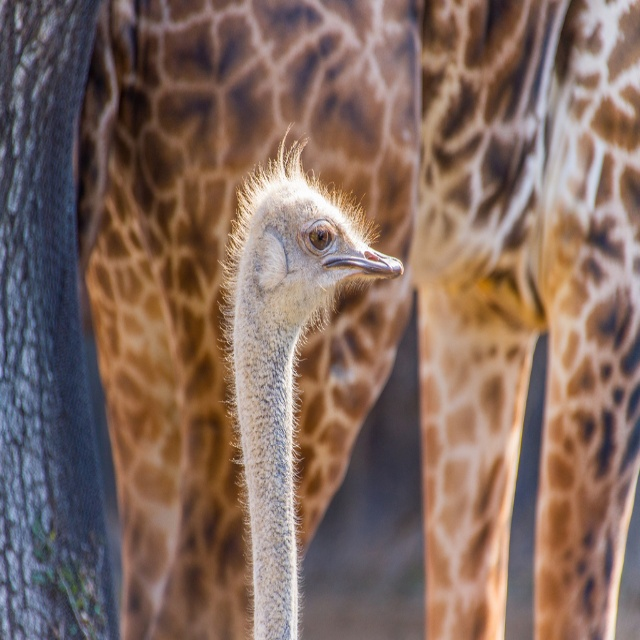Giraffe: (70, 0, 640, 639)
